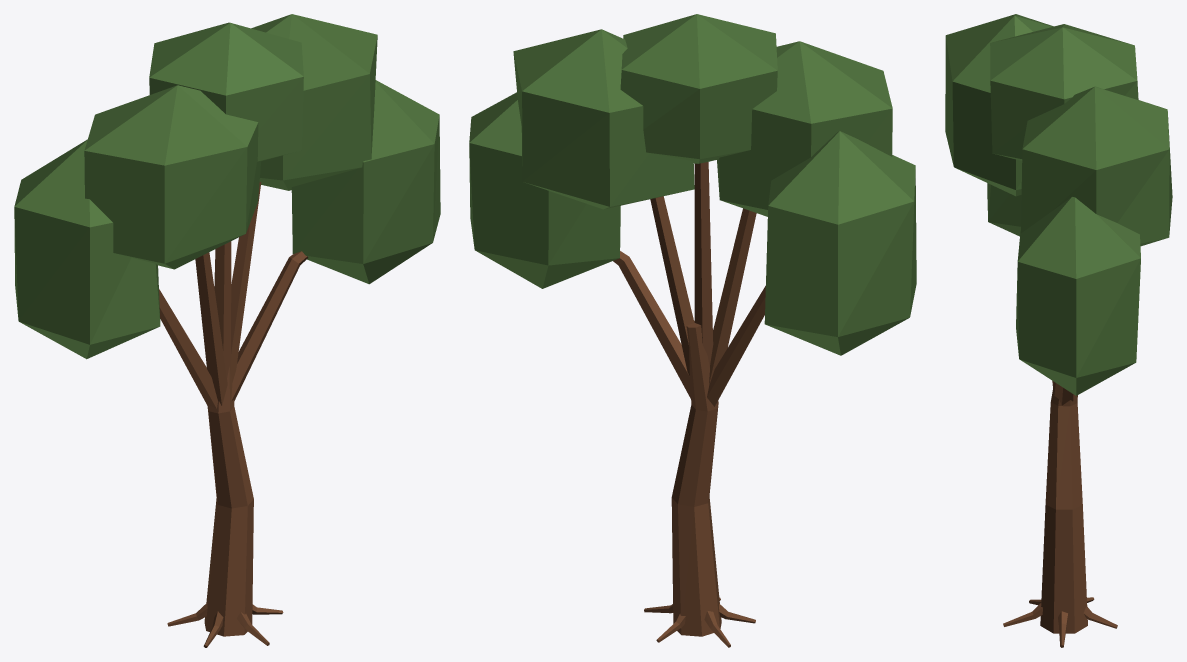
Rendered from Plant_Common_VaseCrownElm_001_LOD1.glb.
3 renders of one model, left to right at view 1: azimuth 30°, elevation 25°; view 2: azimuth 150°, elevation 25°; view 3: azimuth 270°, elevation 25°, orthographic. The views are drawn at different scales.
Visible parts, largest first — view 1: Plant_Common_VaseCrownElm_001_LOD1; view 2: Plant_Common_VaseCrownElm_001_LOD1; view 3: Plant_Common_VaseCrownElm_001_LOD1.
Boxes of the visible parts, bbox=[...] form: Plant_Common_VaseCrownElm_001_LOD1: bbox=[14, 14, 440, 647]; Plant_Common_VaseCrownElm_001_LOD1: bbox=[469, 14, 916, 647]; Plant_Common_VaseCrownElm_001_LOD1: bbox=[945, 14, 1172, 647].
Size of the model in its own units: 6.14 by 8.22 by 2.83.
